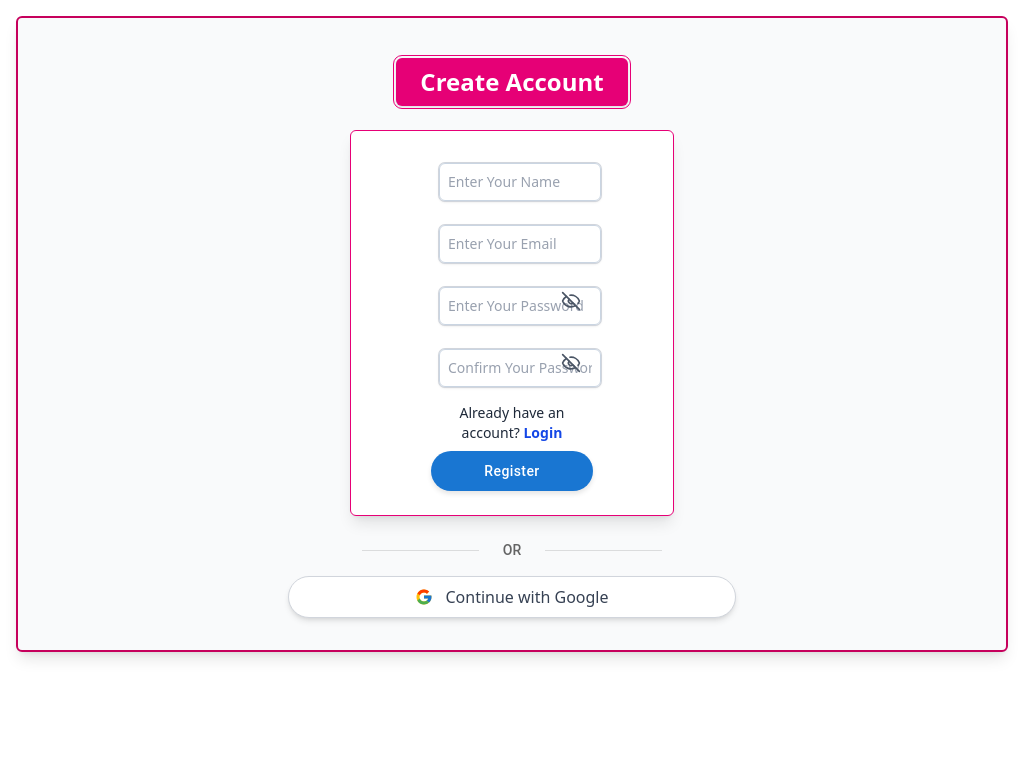
Scenario: SignUp Component › shows password validation errors
The width and height of the screenshot is (1024, 768).
In the password field with placeholder "Enter Your Password": (520, 306) [439,287,601,325], type "short"
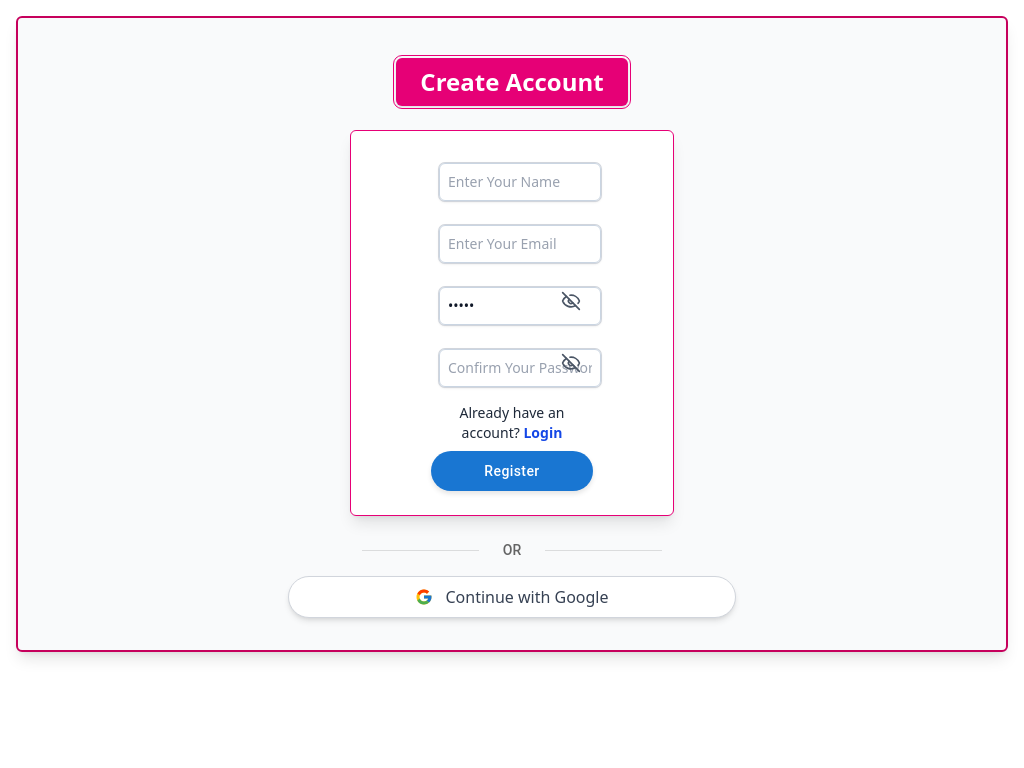
Click the button "Register": (512, 471) [431,451,593,491]
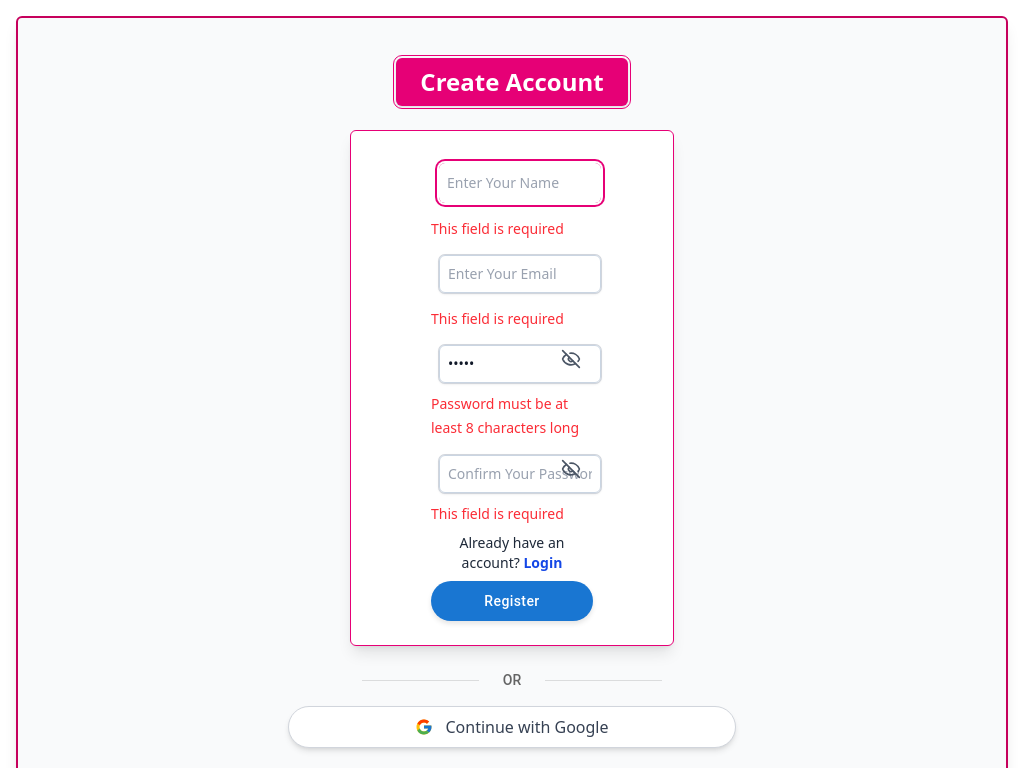
Result: the text "Password must be at least 8 characters long" is shown at [431,394,579,437]
